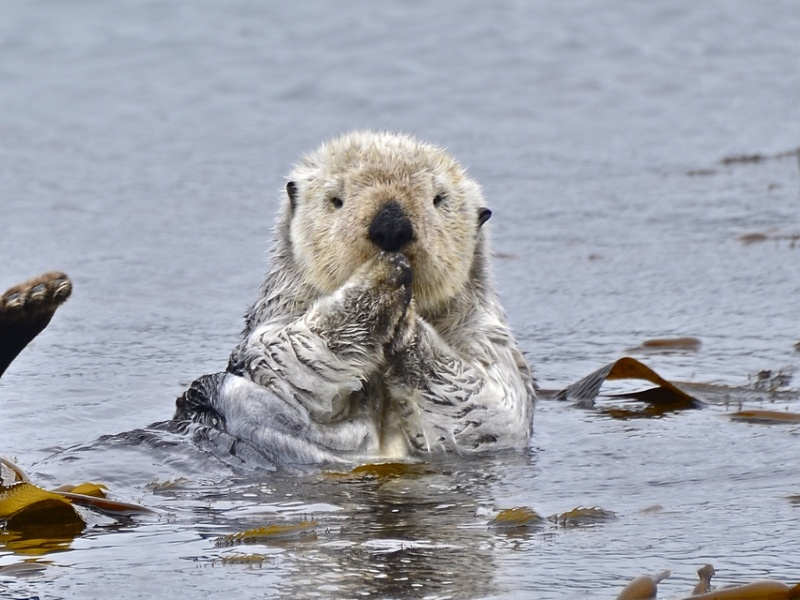minkish: (170, 126, 547, 458)
